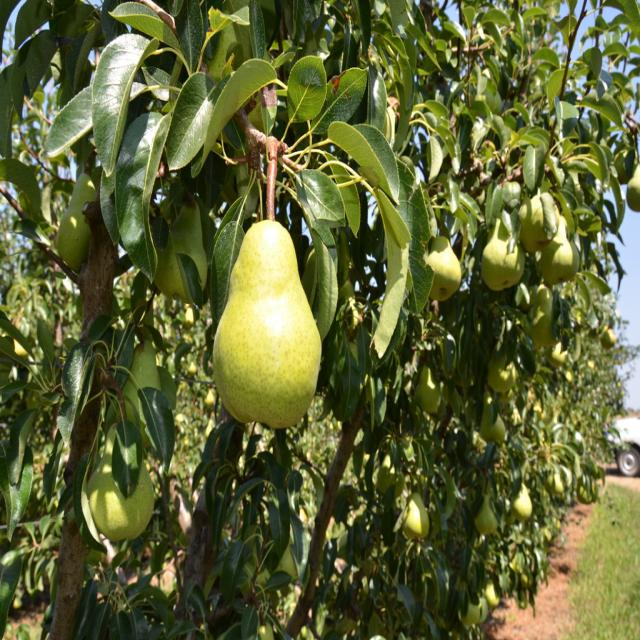pear: (211, 149, 321, 429), (82, 419, 152, 542), (110, 321, 166, 447), (154, 196, 208, 300), (56, 170, 98, 268), (478, 208, 524, 290), (539, 206, 579, 285), (421, 228, 460, 301), (524, 270, 556, 347), (517, 180, 555, 243), (485, 336, 517, 389), (400, 487, 429, 541), (477, 387, 505, 439), (413, 358, 440, 411), (470, 484, 496, 531), (506, 481, 530, 519), (463, 592, 486, 626), (543, 334, 567, 364), (626, 156, 638, 203), (485, 577, 498, 608)
